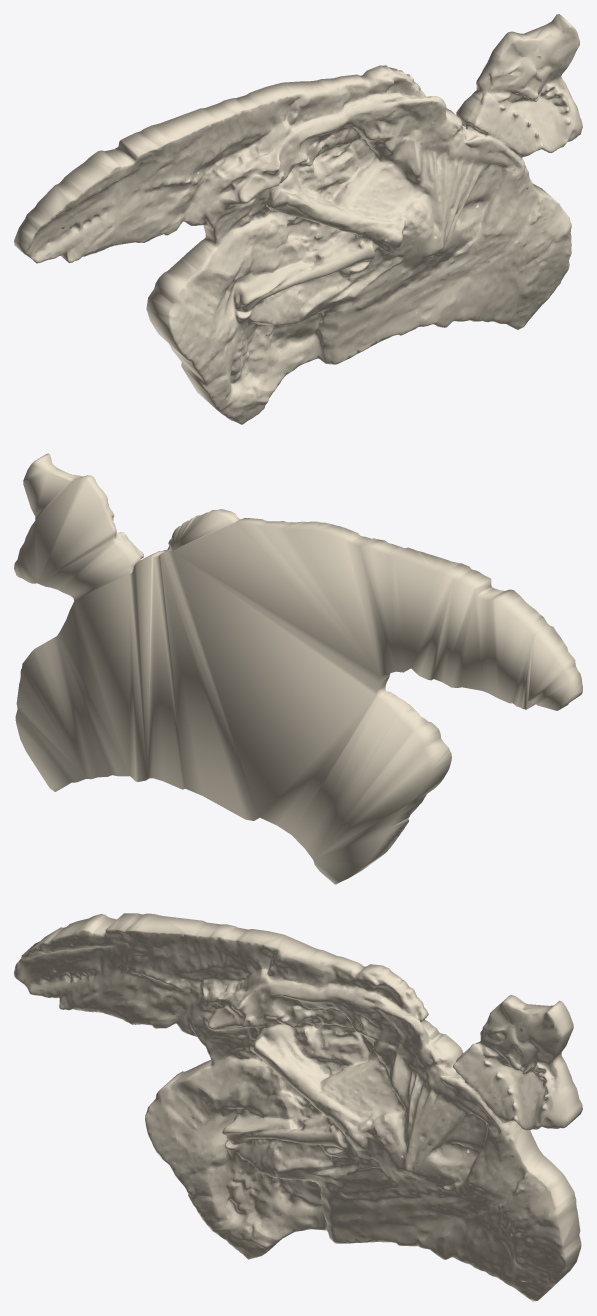
Rendered from sloedla-skeleton.glb.
The picture shows the model from 3 angles, top to bottom: view 1: azimuth 30°, elevation 25°; view 2: azimuth 150°, elevation 25°; view 3: azimuth 330°, elevation 25°; orthographic projection.
Parts seen in each view (by area): view 1: Skeleton; view 2: Skeleton; view 3: Skeleton.
Part boxes in pixels (x1,y1,x2,y2): Skeleton: (14, 14, 582, 424); Skeleton: (14, 453, 582, 884); Skeleton: (14, 913, 582, 1301).
Bounding box in the file's own units: 134 × 77.33 × 16.76.
